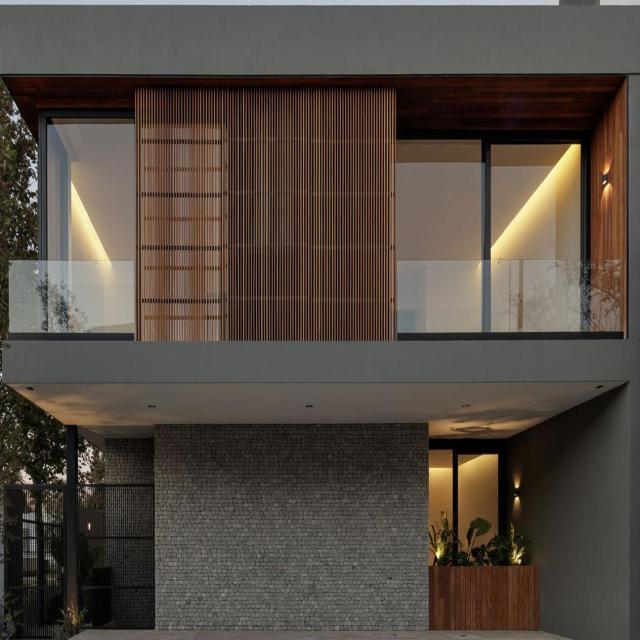railing: (396, 259, 624, 337), (8, 257, 134, 336)
window: (396, 130, 588, 256), (43, 111, 138, 257), (427, 441, 511, 567)
